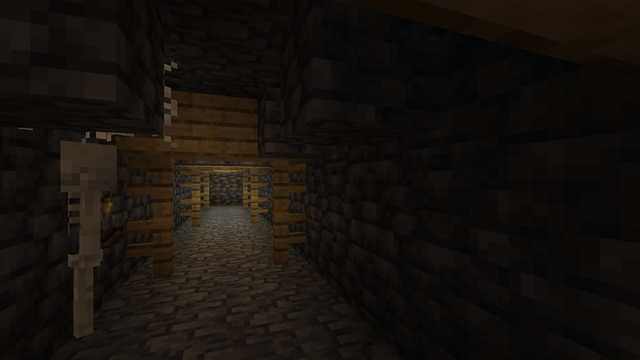squelettes: (59, 141, 121, 346)
